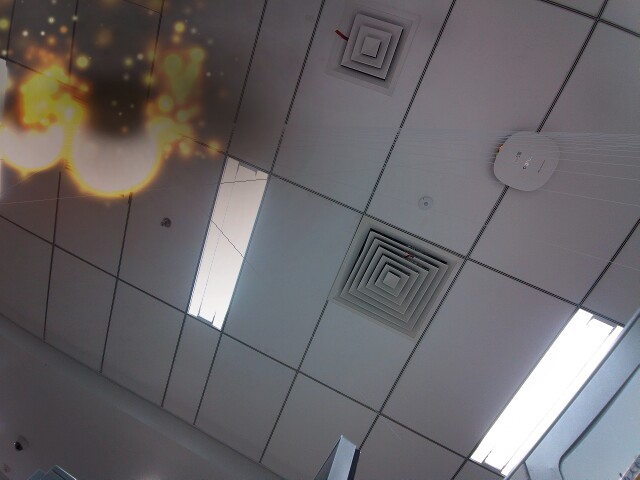fire: (64, 99, 163, 200), (1, 98, 72, 171)
